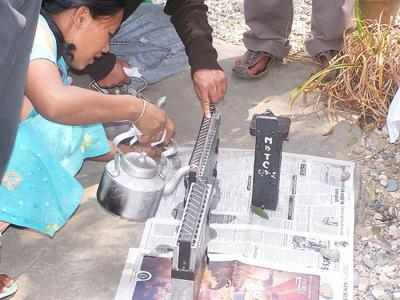person: (2, 2, 174, 298)
